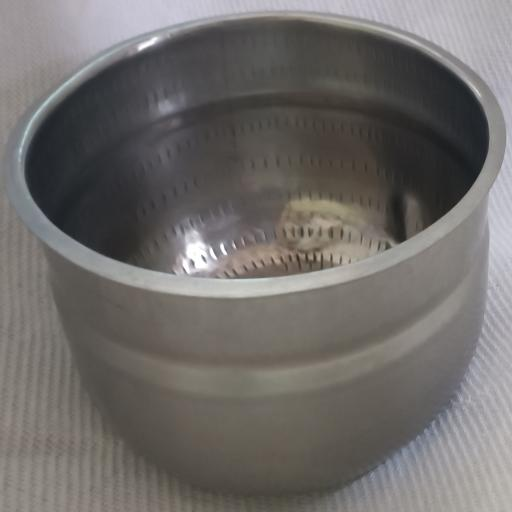vessel: (4, 13, 505, 492)
